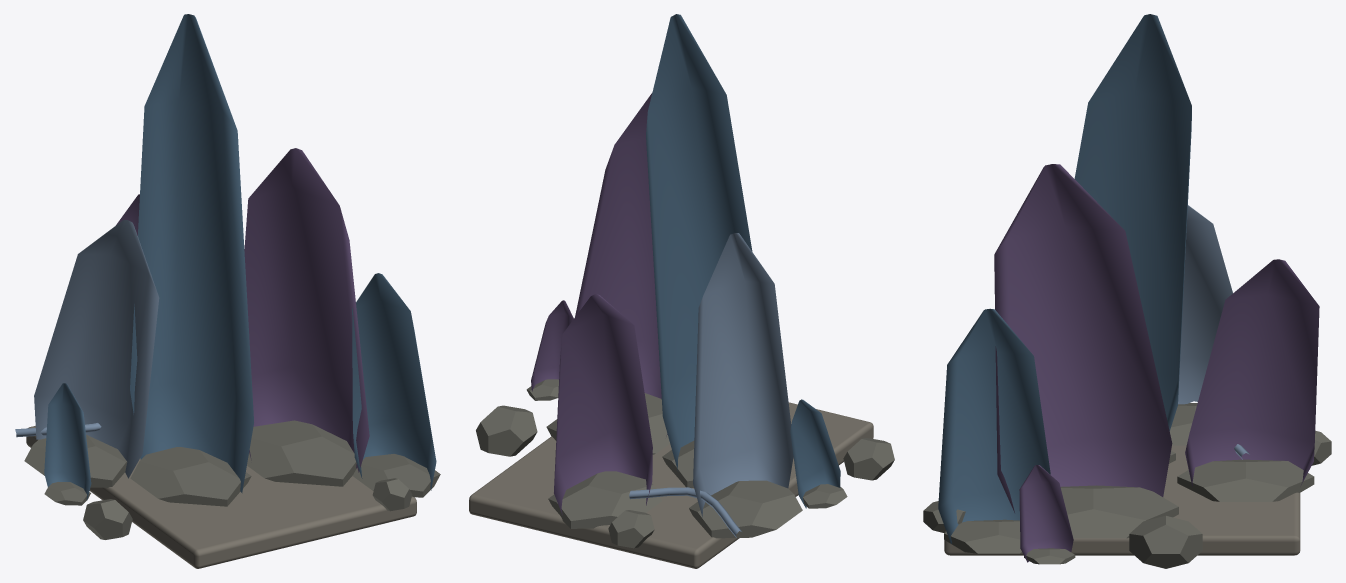
File: extra_crystal_cluster.glb
3 renders of one model, left to right at view 1: azimuth 30°, elevation 25°; view 2: azimuth 150°, elevation 25°; view 3: azimuth 270°, elevation 25°, orthographic. The views are drawn at different scales.
Bounding box in the file's own units: 1.4 × 1.8 × 1.4.
